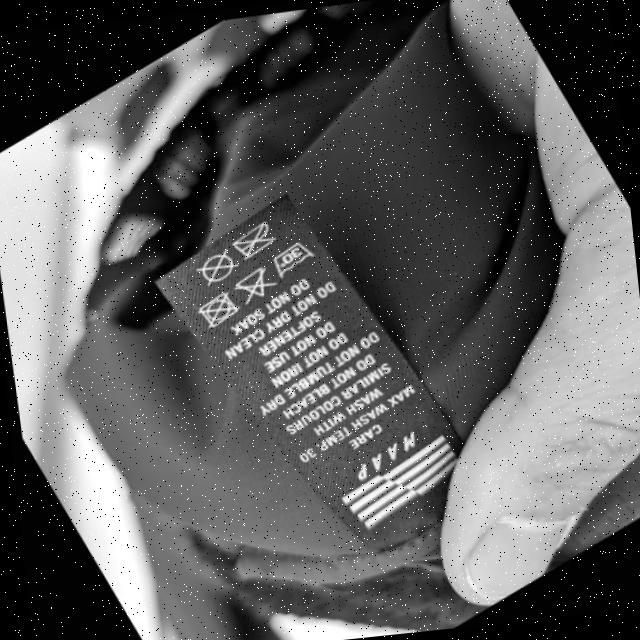ER_no_bleach: (234, 268, 275, 299)
ER_no_dry_clean: (199, 254, 236, 283)
ER_no_tumble_dry: (199, 290, 240, 329)
ER_wash_30: (275, 247, 310, 274)
